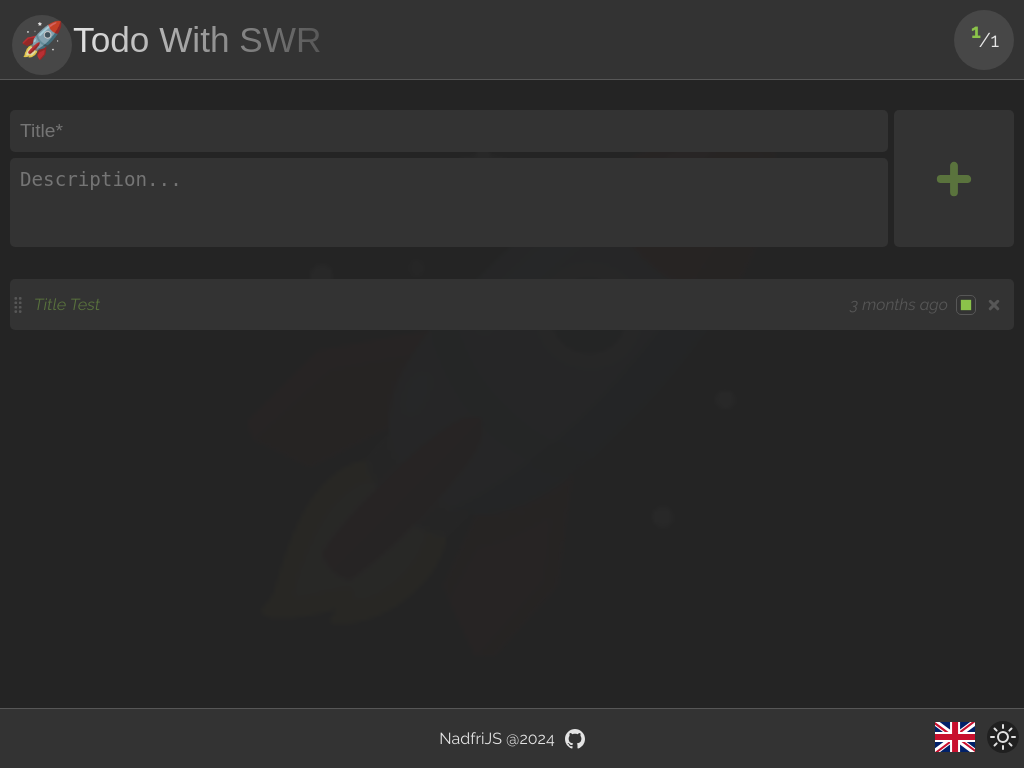
Test: Home Page usecases › should create new Todo
Type "Create Title Test" into the field with placeholder "Title*" at (449, 131), box [10,110,888,152]
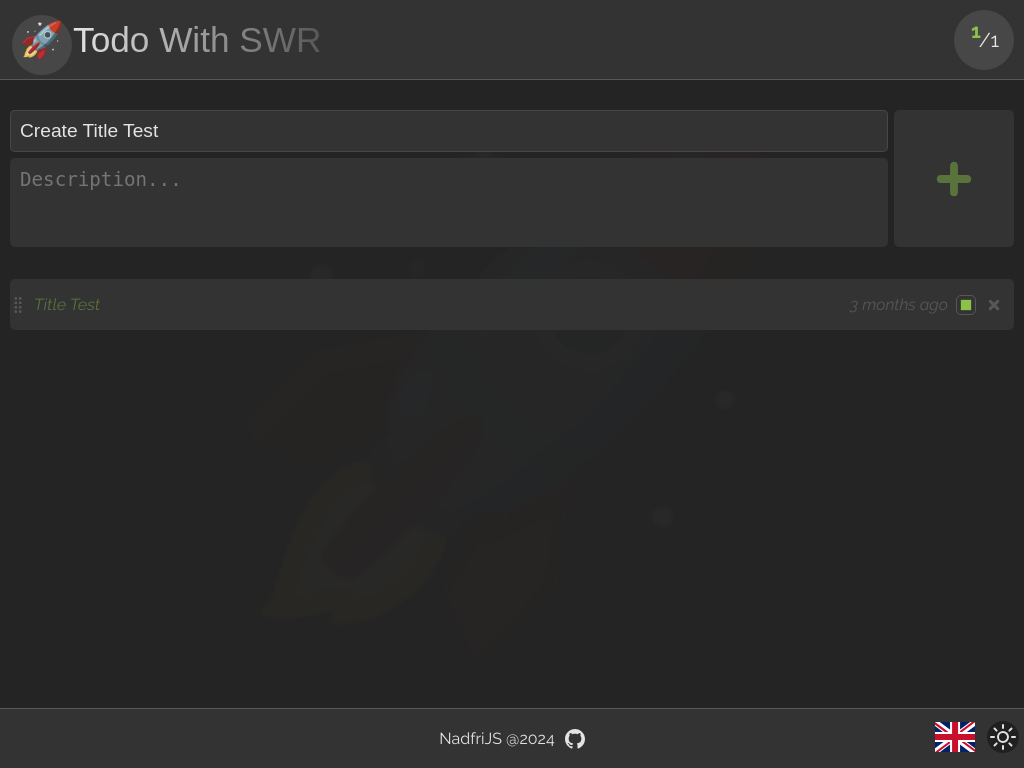
Type "Create Content Test" into the text box with placeholder "Description..." at (449, 202), box [10,158,888,247]
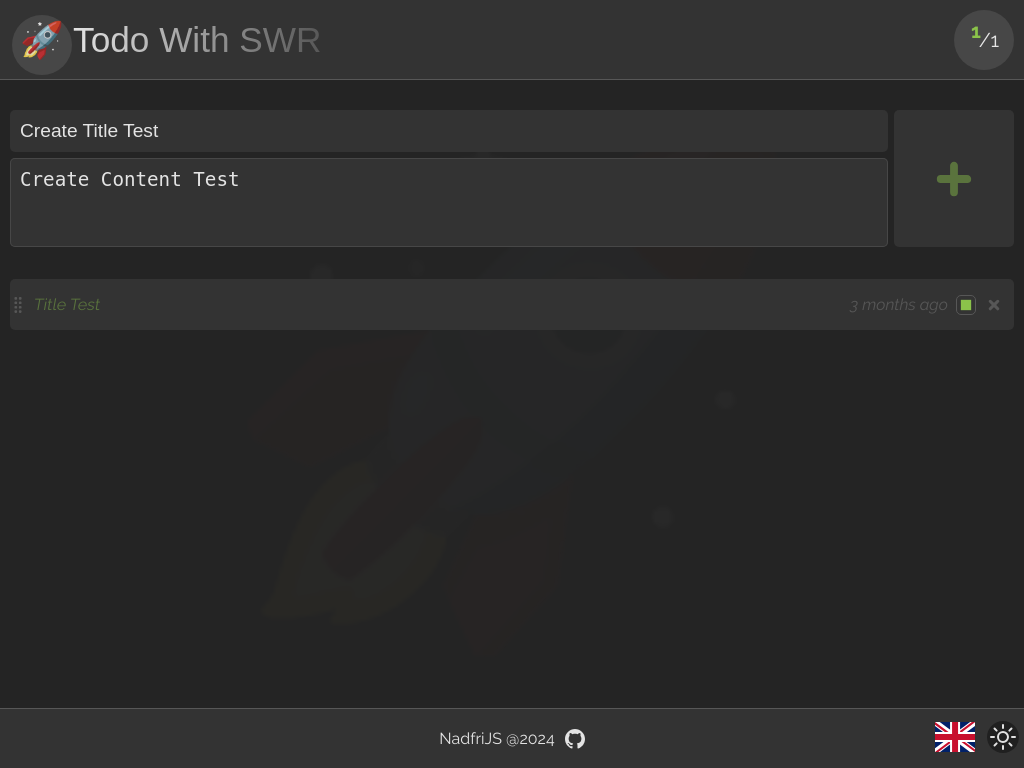
Click the button named "add new todo" at (954, 178), box [894,110,1014,247]
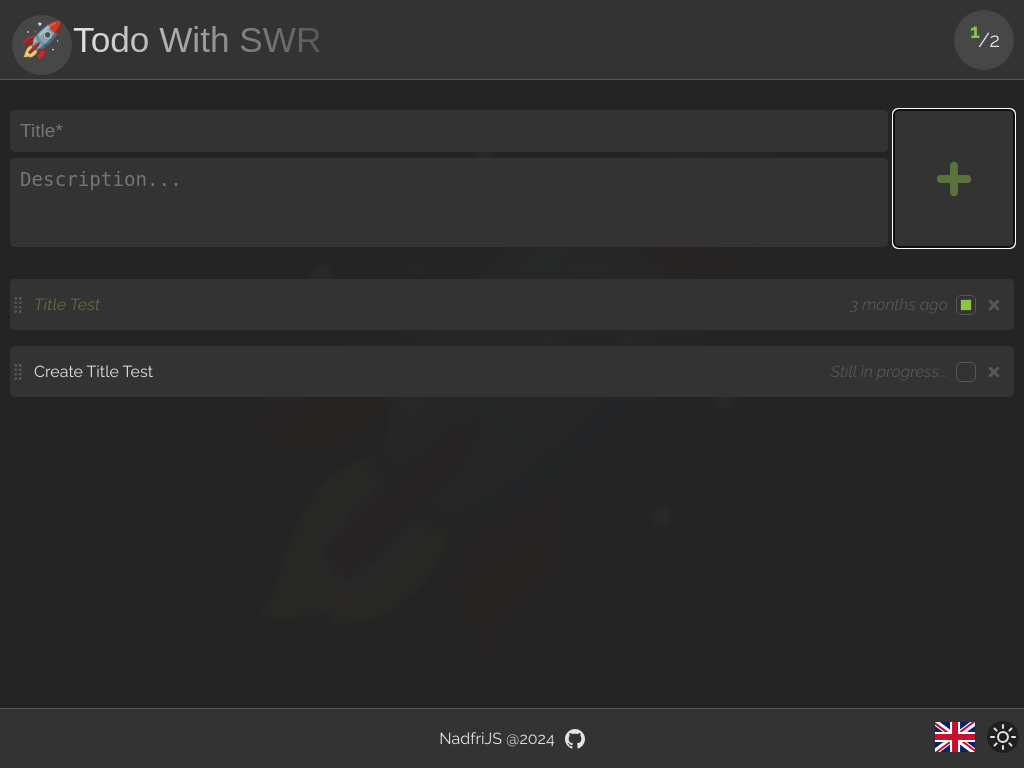
Result: the field with placeholder "Title*" is empty at [10,110,888,152]
Result: the text box with placeholder "Description..." is empty at [10,158,888,247]
Result: the text "Create Title Test" is shown at [34,362,153,381]
